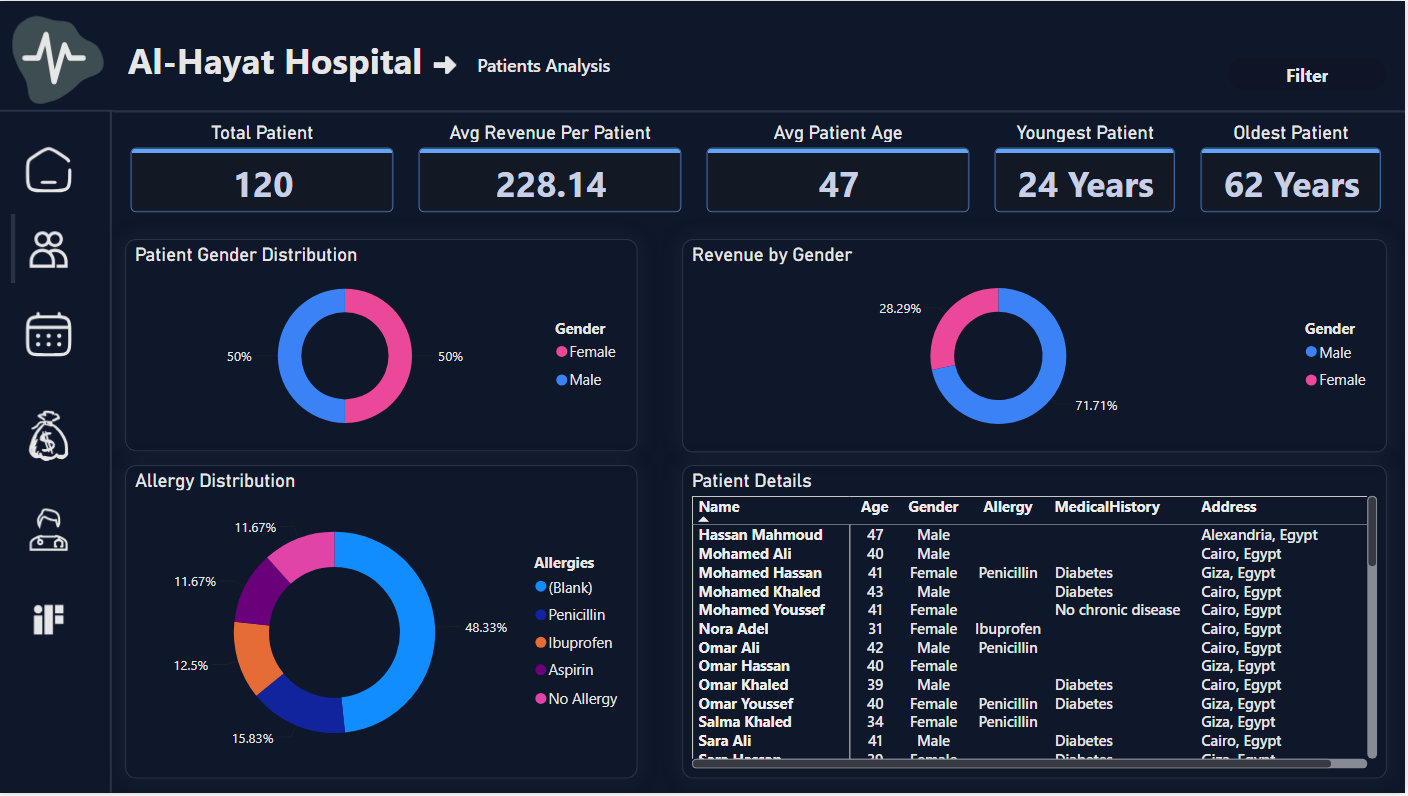

The page's visual inventory and layout, read from the dashboard file:
{"tool":"powerbi","page":{"name":"Patients Analysis","canvas":[1280,720],"ordinal":1},"visuals":[{"type":"shape","box":[105.8,74.2,1174.5,51.8],"z":0},{"type":"shape","box":[90,100.1,27,619.9],"z":1000},{"type":"shape","box":[0,88.9,105.8,21.4],"z":2000},{"type":"shape","box":[101.3,23.3,303.8,58.5],"z":3000},{"type":"actionButton","box":[2.1,1.9,168.8,100.1],"z":4000},{"type":"actionButton","box":[20.2,126,57.4,54],"z":5000},{"type":"actionButton","box":[20.2,198,57.4,54],"z":6000},{"type":"actionButton","box":[20.2,275.6,57.4,54],"z":7000},{"type":"actionButton","box":[20.2,367.9,57.4,54],"z":8000},{"type":"actionButton","box":[20.2,454.5,57.4,54],"z":9000},{"type":"actionButton","box":[20.2,535.5,57.4,54],"z":10000},{"type":"shape","box":[0,193.5,29.2,63],"z":11000},{"type":"actionButton","box":[392.7,43.5,210.4,29.2],"z":12000},{"type":"cardVisual","title":"Total Patient","fields":{"Data":["Measure.Total Patient"]},"box":[116.5,109.5,249.2,88.5],"z":15000},{"type":"cardVisual","title":"Avg Patient Age","fields":{"Data":["Measure.Average Patient Age"]},"box":[640,109.5,249.2,88.5],"z":16000},{"type":"cardVisual","title":"Avg Revenue Per Patient","fields":{"Data":["Measure.Average Revenue Per Patient"]},"box":[378.2,109.5,249.2,88.5],"z":17000},{"type":"donutChart","title":"Patient Gender Distribution","fields":{"Category":["Patients.Gender"],"Y":["Measure.Total Patient"]},"box":[116.5,216.6,465.9,193.3],"z":18000},{"type":"donutChart","title":"Allergy Distribution","fields":{"Category":["Patients.Allergies"],"Y":["Measure.Total Patient"]},"box":[116.5,421.6,465.9,285.4],"z":19000},{"type":"pivotTable","title":"Patient Details ","fields":{"Values":["Avg(Patients.Age)","Min(Patients.Gender)","Min(Patients.Allergies)","Min(Patients.MedicalHistory)","Min(Patients.Address)"],"Rows":["Patients.FullName"]},"box":[623.1,421.6,640.6,285.4],"z":20000},{"type":"donutChart","title":"Revenue by Gender","fields":{"Category":["Patients.Gender"],"Y":["Measure.Total Revenue"]},"box":[623.1,216.6,641.2,193.6],"z":21000},{"type":"cardVisual","title":"Youngest Patient","fields":{"Data":["Measure.Youngest Patient Age"]},"box":[901.8,109.5,174.7,88.5],"z":22000},{"type":"cardVisual","title":"Oldest Patient","fields":{"Data":["Measure.Oldest Patient Age"]},"box":[1089,109.5,174.7,88.5],"z":23000},{"type":"actionButton","box":[1119.1,52,144,29],"z":23500}]}

Visuals, with their boxes on the page's 1280x720 design canvas (x1, y1, x2, y2). These are canvas units, not pixel positions in the 1408x796 screenshot, which may show the page scaled, cropped or inside an application window:
shape: crop(106, 74, 1280, 126)
shape: crop(90, 100, 117, 720)
shape: crop(0, 89, 106, 110)
shape: crop(101, 23, 405, 82)
actionButton: crop(2, 2, 171, 102)
actionButton: crop(20, 126, 78, 180)
actionButton: crop(20, 198, 78, 252)
actionButton: crop(20, 276, 78, 330)
actionButton: crop(20, 368, 78, 422)
actionButton: crop(20, 454, 78, 508)
actionButton: crop(20, 536, 78, 590)
shape: crop(0, 194, 29, 256)
actionButton: crop(393, 44, 603, 73)
"Total Patient" cardVisual: crop(116, 110, 366, 198)
"Avg Patient Age" cardVisual: crop(640, 110, 889, 198)
"Avg Revenue Per Patient" cardVisual: crop(378, 110, 627, 198)
"Patient Gender Distribution" donutChart: crop(116, 217, 582, 410)
"Allergy Distribution" donutChart: crop(116, 422, 582, 707)
"Patient Details " pivotTable: crop(623, 422, 1264, 707)
"Revenue by Gender" donutChart: crop(623, 217, 1264, 410)
"Youngest Patient" cardVisual: crop(902, 110, 1076, 198)
"Oldest Patient" cardVisual: crop(1089, 110, 1264, 198)
actionButton: crop(1119, 52, 1263, 81)
